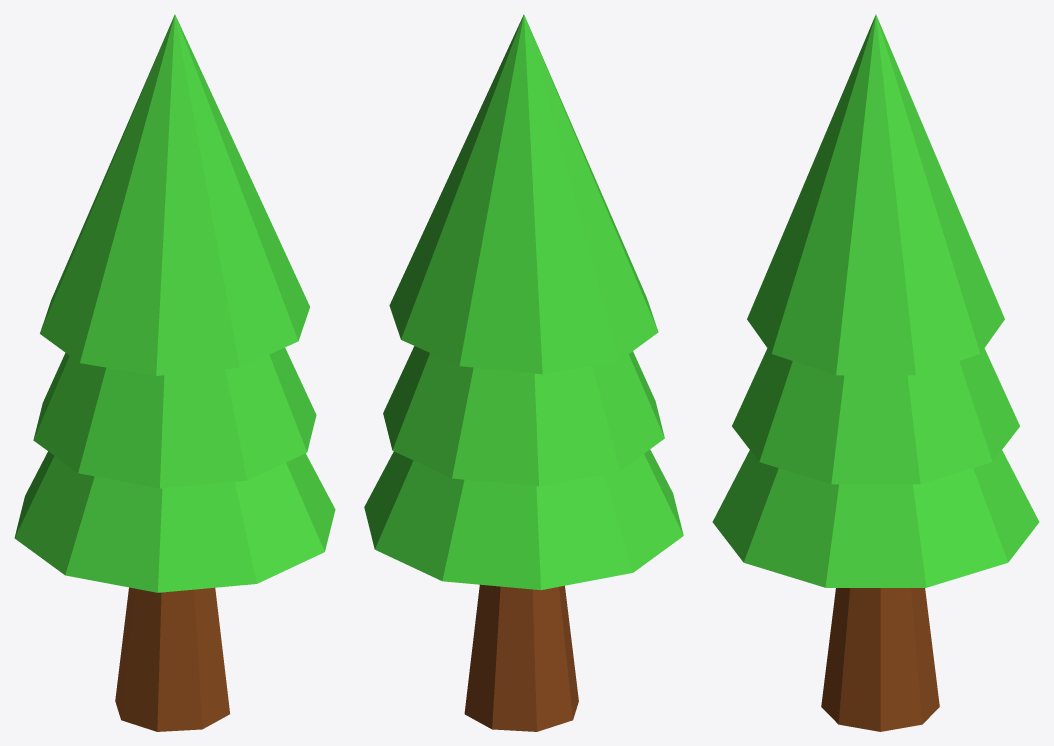
The model's file is LowpoliArvore2.fbx.
3 views of the same model, side by side, from view 1: azimuth 30°, elevation 25°; view 2: azimuth 150°, elevation 25°; view 3: azimuth 270°, elevation 25° (orthographic).
Visible parts, largest first — view 1: Cone.000, Cylinder.008; view 2: Cone.000, Cylinder.008; view 3: Cone.000, Cylinder.008.
Part boxes in pixels (left/top/right/bottom): Cone.000: left=14, top=14, right=335, bottom=592; Cylinder.008: left=115, top=587, right=229, bottom=731; Cone.000: left=364, top=14, right=683, bottom=589; Cylinder.008: left=464, top=584, right=578, bottom=731; Cone.000: left=712, top=14, right=1039, bottom=587; Cylinder.008: left=821, top=588, right=939, bottom=731.
Bounding box in the file's own units: 644 × 1583 × 677.
